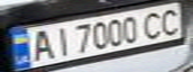0: (118, 14, 145, 43), (90, 18, 112, 50), (106, 16, 127, 46)
7: (69, 20, 93, 53)
A: (24, 27, 57, 61)
C: (154, 6, 187, 36), (139, 8, 169, 39)
I: (48, 25, 72, 56)
